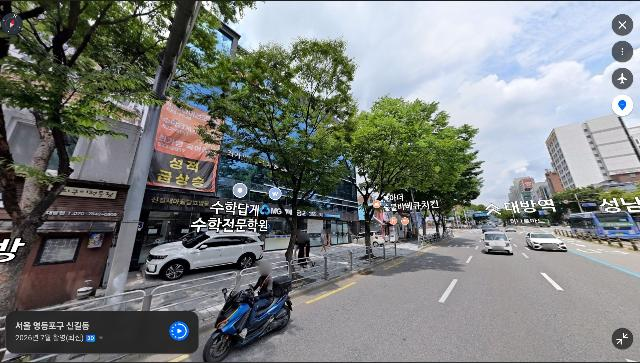other: (0, 0, 246, 293), (195, 34, 360, 282), (334, 92, 457, 262), (402, 112, 485, 245)
